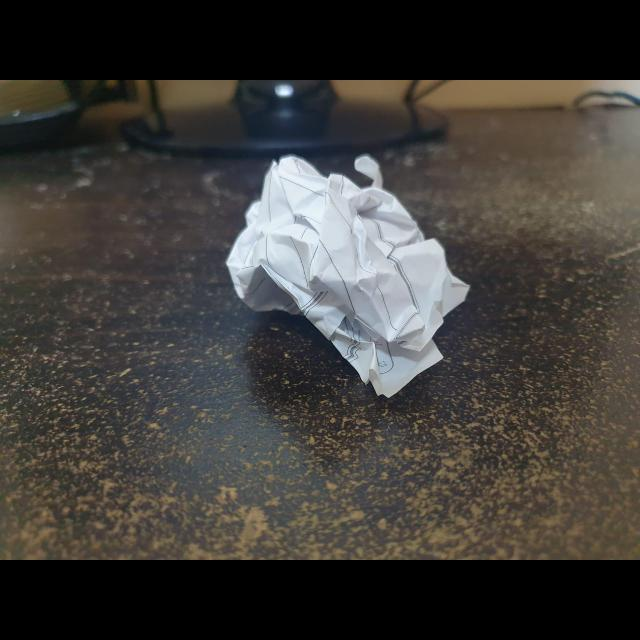scrap_paper: (216, 151, 474, 403)
